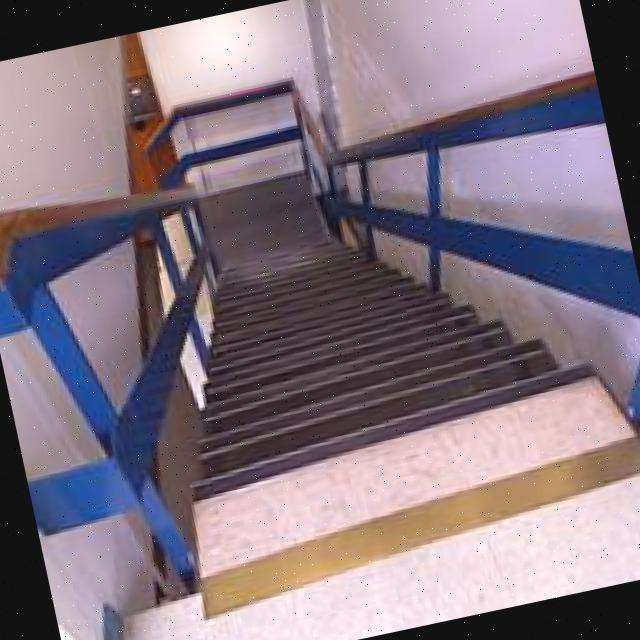stairs: (61, 113, 640, 640)
